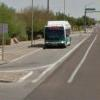Bus: (39, 14, 72, 51)
